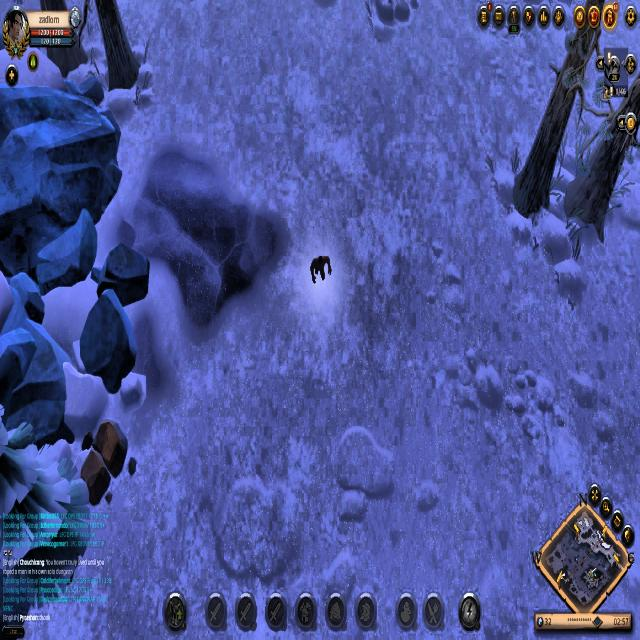limestone: (78, 415, 138, 509)
